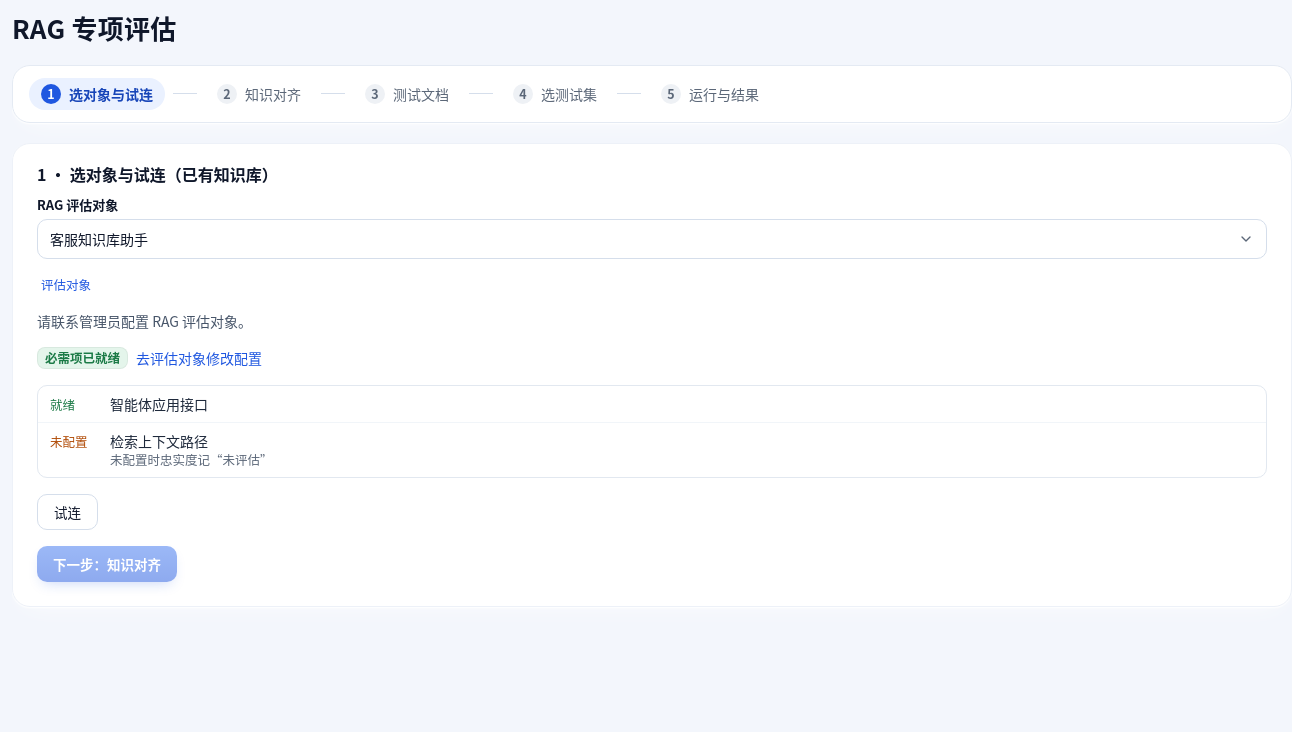
Test: RagEvalPage 步骤条 › 第 4 步：按模式请求配置检查清单并展示未配置项的影响
Click the button "2 知识对齐" at (259, 94), box [205,78,313,110]
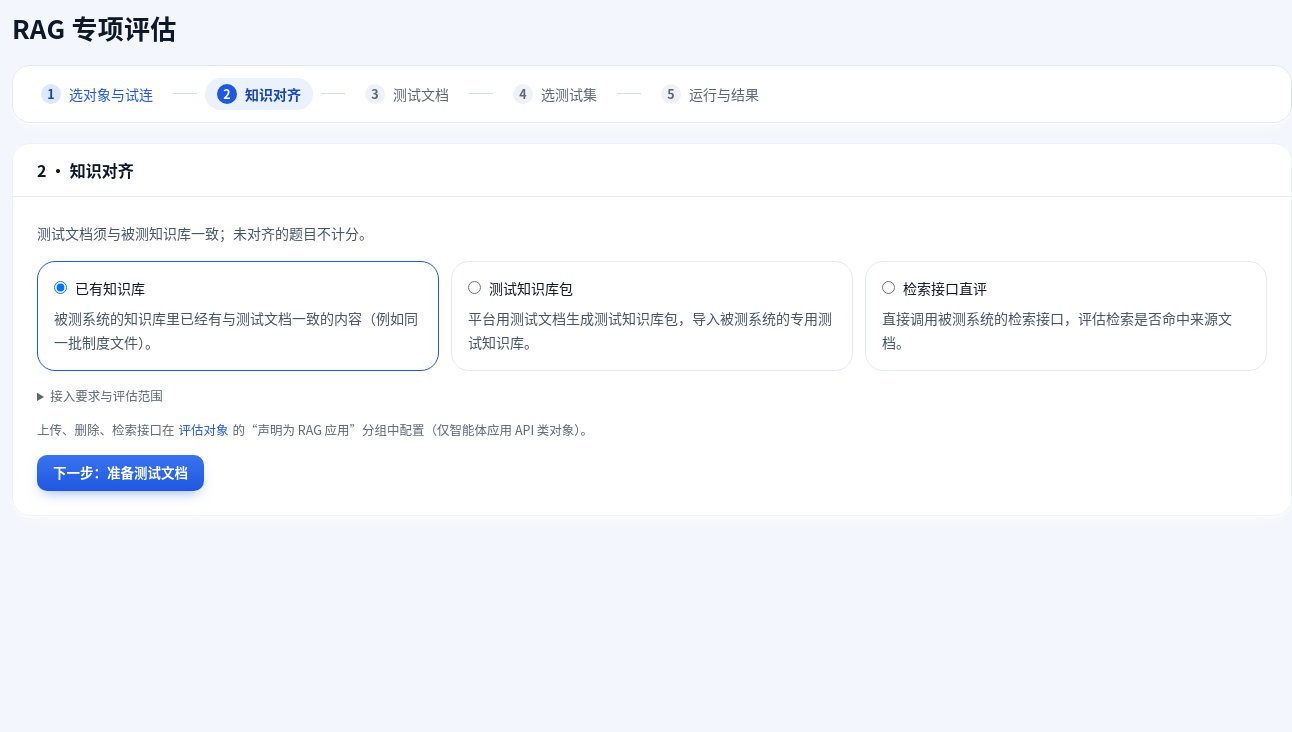
Click the radio button labelled "检索接口直评 直接调用被测系统的检索接口，评估检索是否命中来源文档。" at (888, 288), box [882,281,895,294]
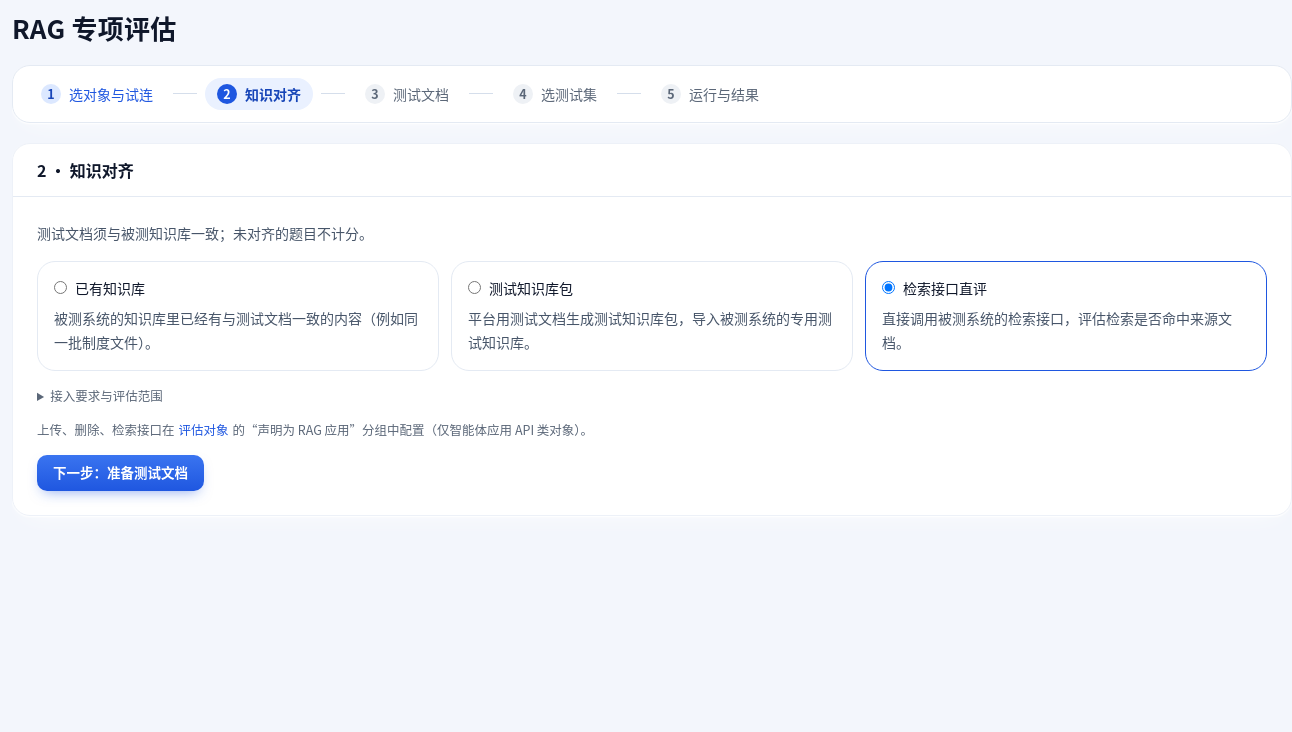
Click the button "1 选对象与试连" at (97, 94), box [29,78,165,110]
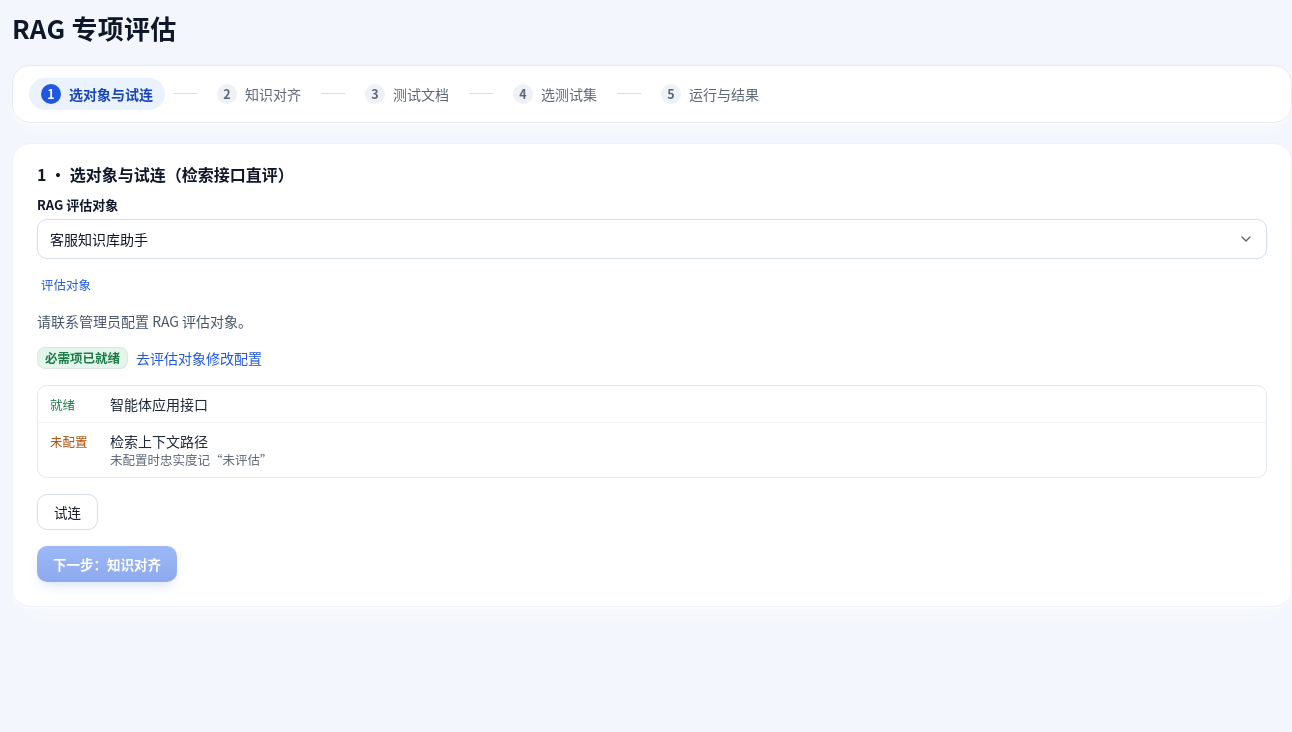
Now the text "检索上下文路径" is shown, box [110,431,208,451]
Now the text "未配置时忠实度记“未评估”" is shown, box [110,450,272,469]
